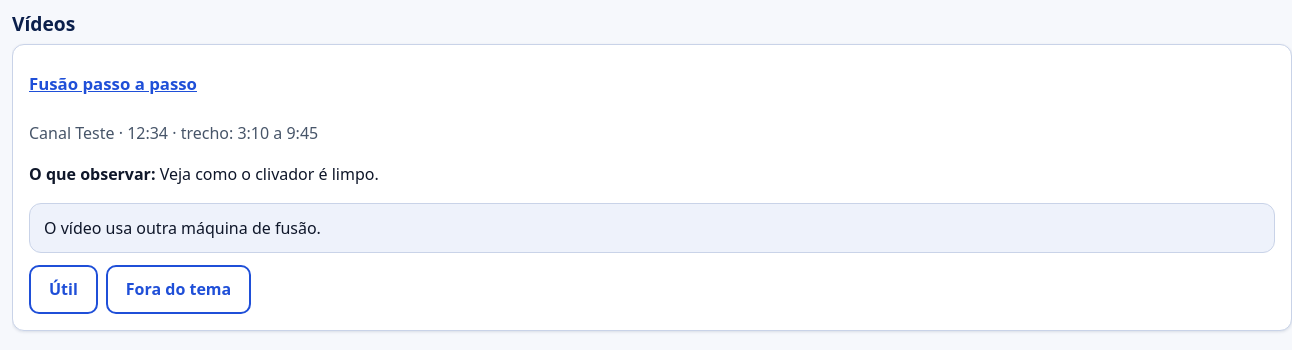
Test: VideosLicao › Útil e Fora do tema alternam e desmarcam ao clicar de novo
The width and height of the screenshot is (1292, 350).
Step 1. Click the button "Útil" → (63, 290), box [29,265,98,314]
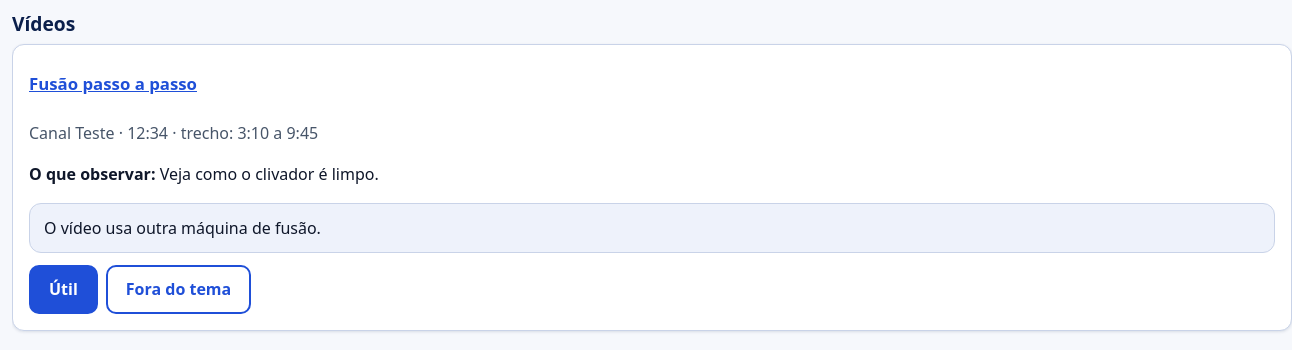
Expected: the button "Útil" is pressed, [29,265,98,314]
Step 2. Click the button "Fora do tema" → (178, 290), box [106,265,251,314]
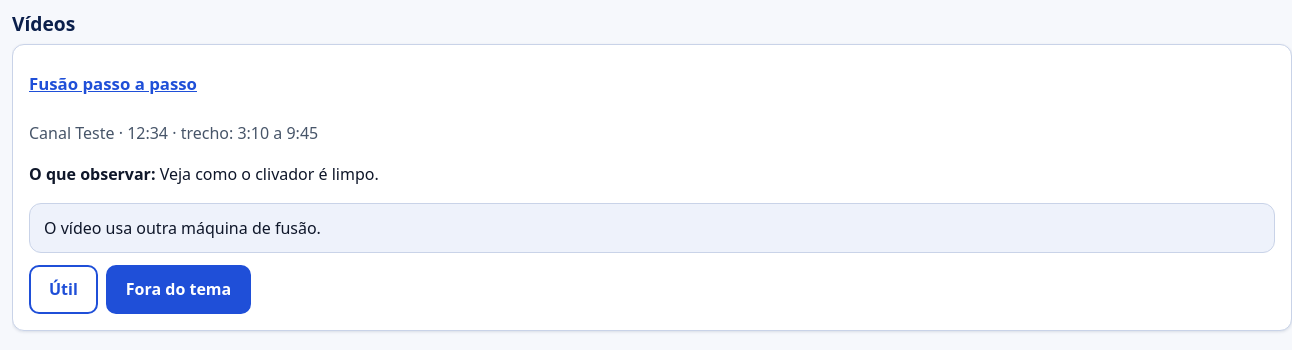
Expected: the button "Útil" is not pressed, [29,265,98,314]
Expected: the button "Fora do tema" is pressed
Step 3. Click the button "Fora do tema" → (178, 290), box [106,265,251,314]
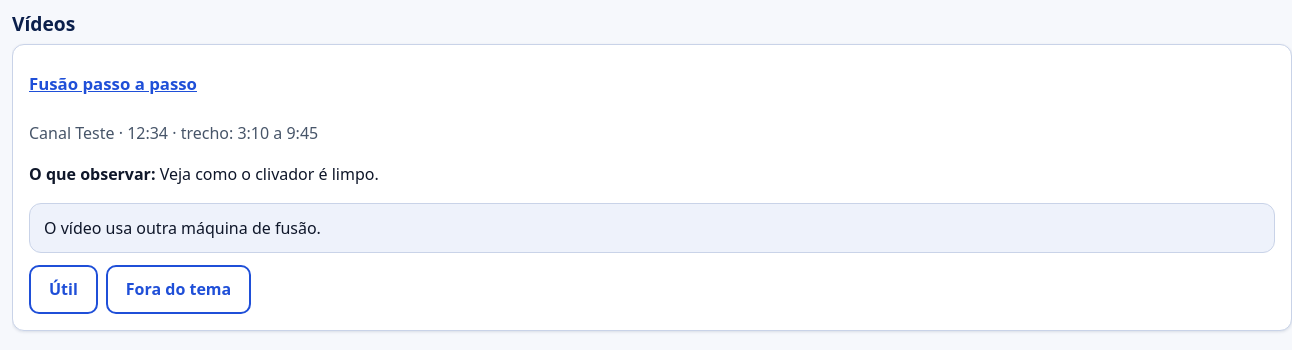
Expected: the button "Fora do tema" is not pressed, [106,265,251,314]
